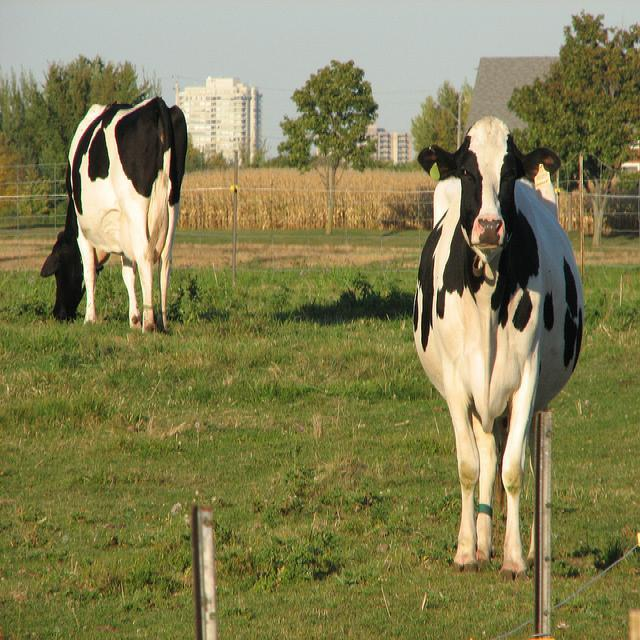cow: (408, 116, 588, 580), (39, 94, 186, 334)
